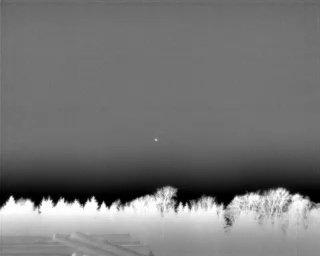BIRD: (153, 136, 160, 144)
